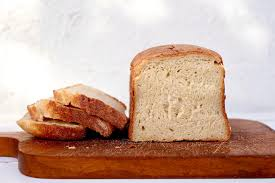bread: (24, 44, 236, 148)
